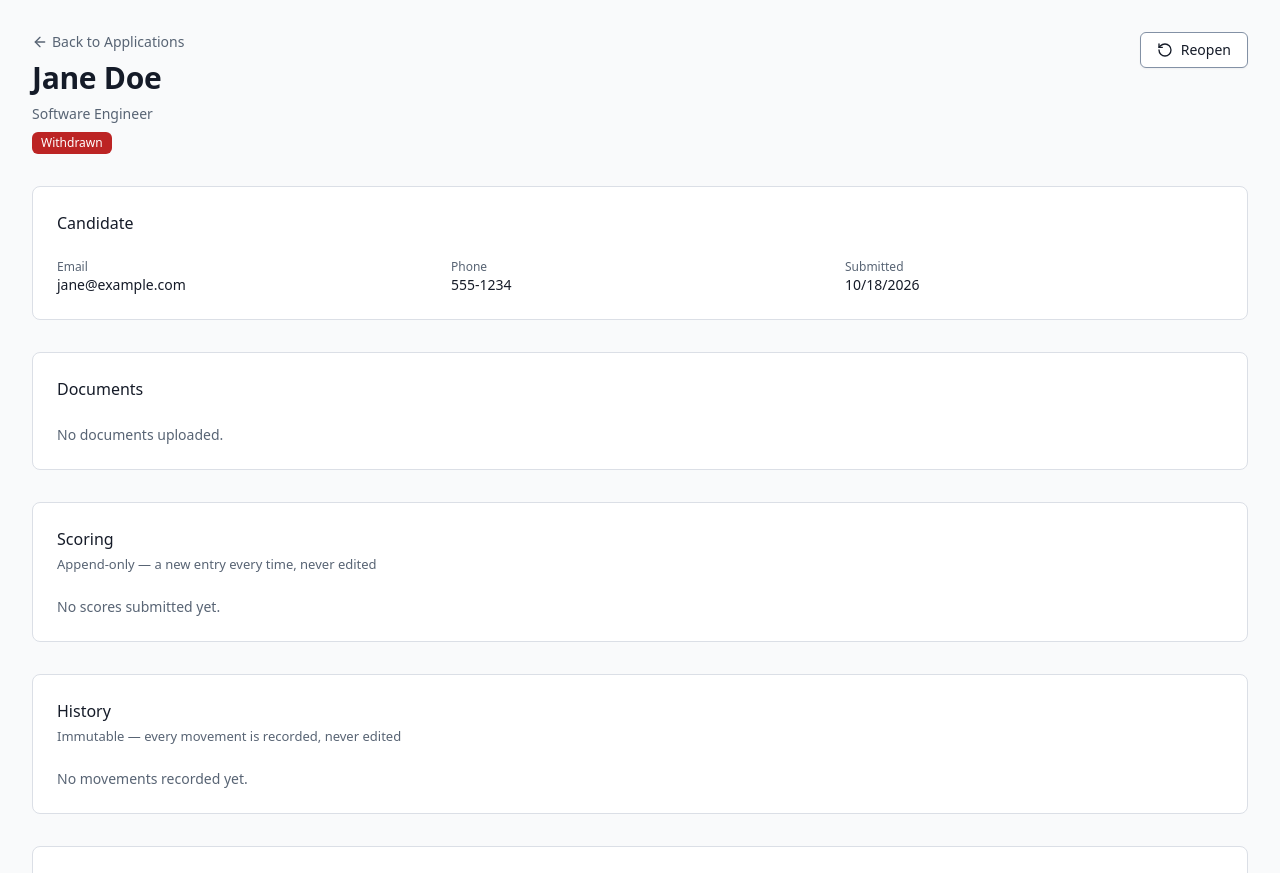
Test: Application detail page › reopen confirmation › reopens exactly once on confirm, invalidates the application, and closes
Click the button with test id "button-reopen-application" at (1194, 50), box top-left (1140, 32), bottom-right (1248, 68)
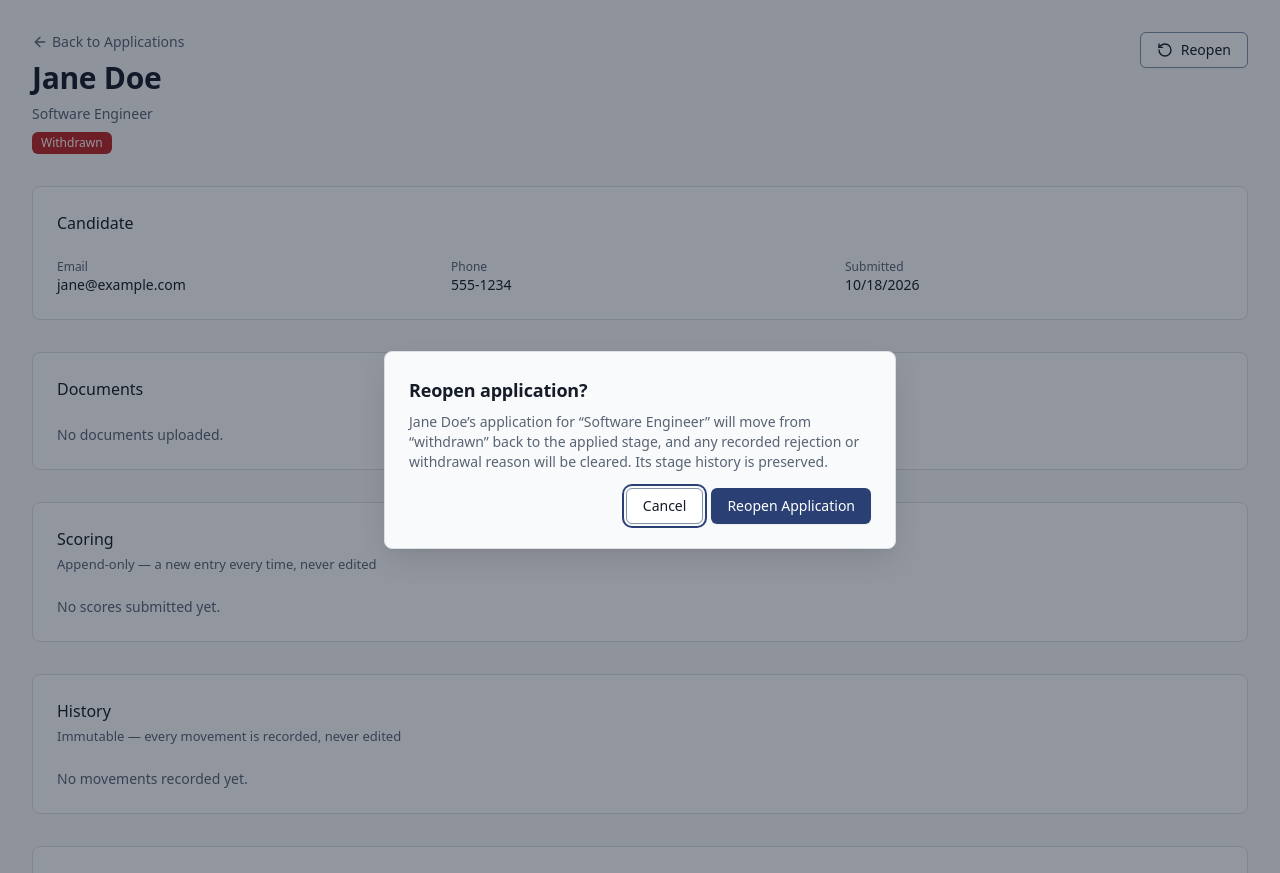
Click the button with test id "dialog-reopen-application-confirm" at (791, 506), box top-left (711, 488), bottom-right (871, 524)
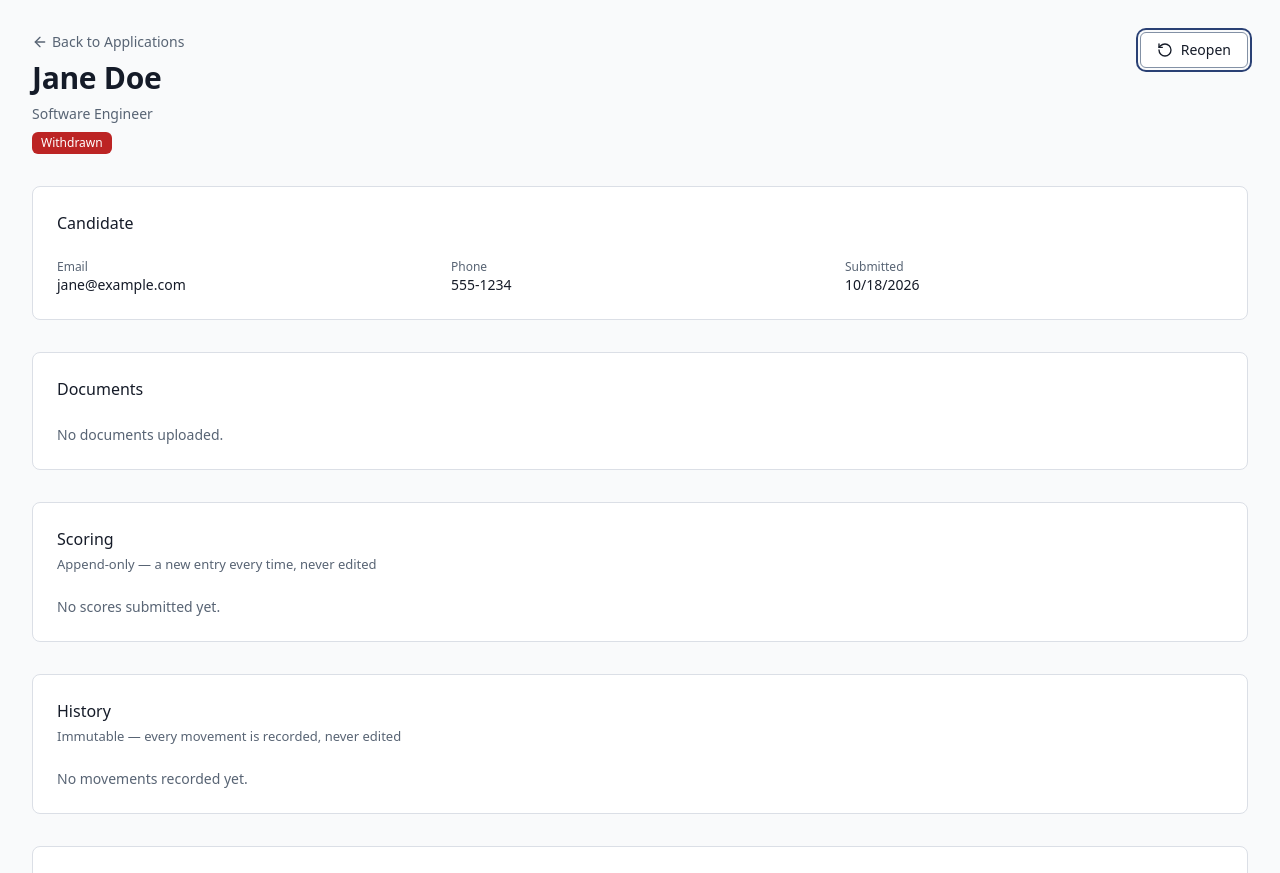
Expected: the dialog with test id "dialog-reopen-application" is gone
